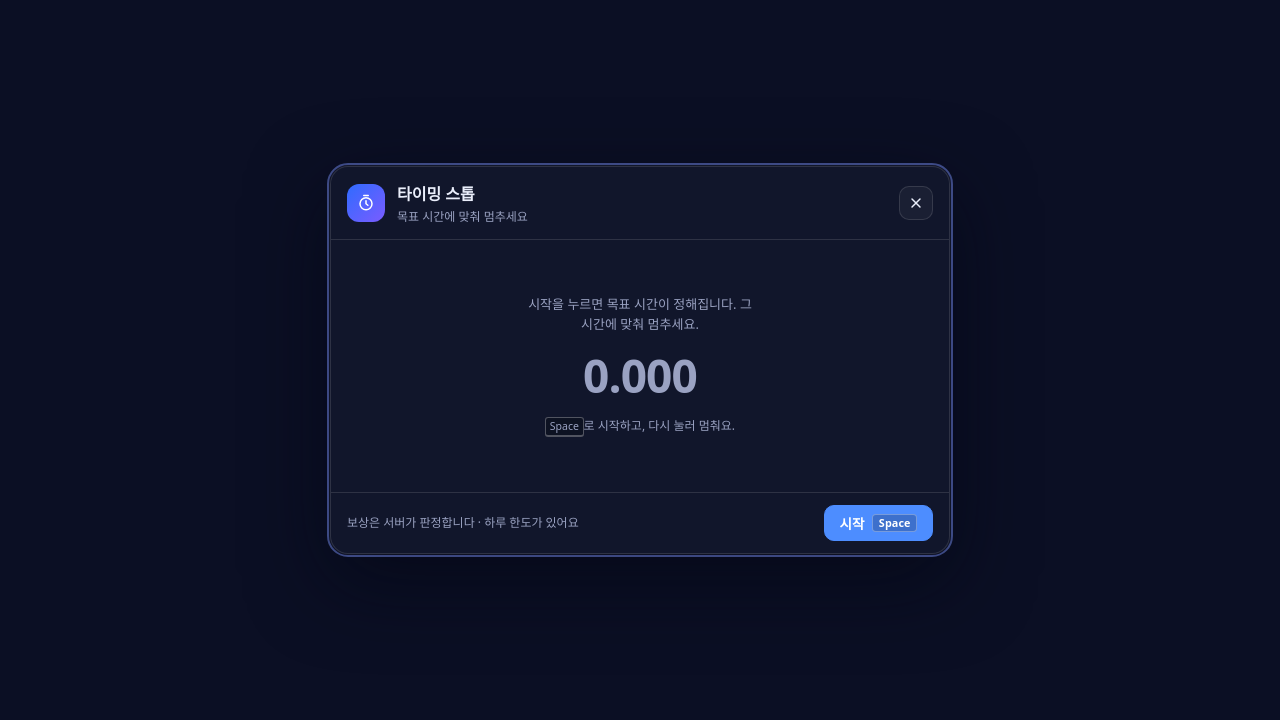
Test: 제출 › 400 은 자동으로 플레이를 재개하지 않는다
The width and height of the screenshot is (1280, 720).
Click the button "시작 Space": click(878, 523) [824, 505, 933, 541]
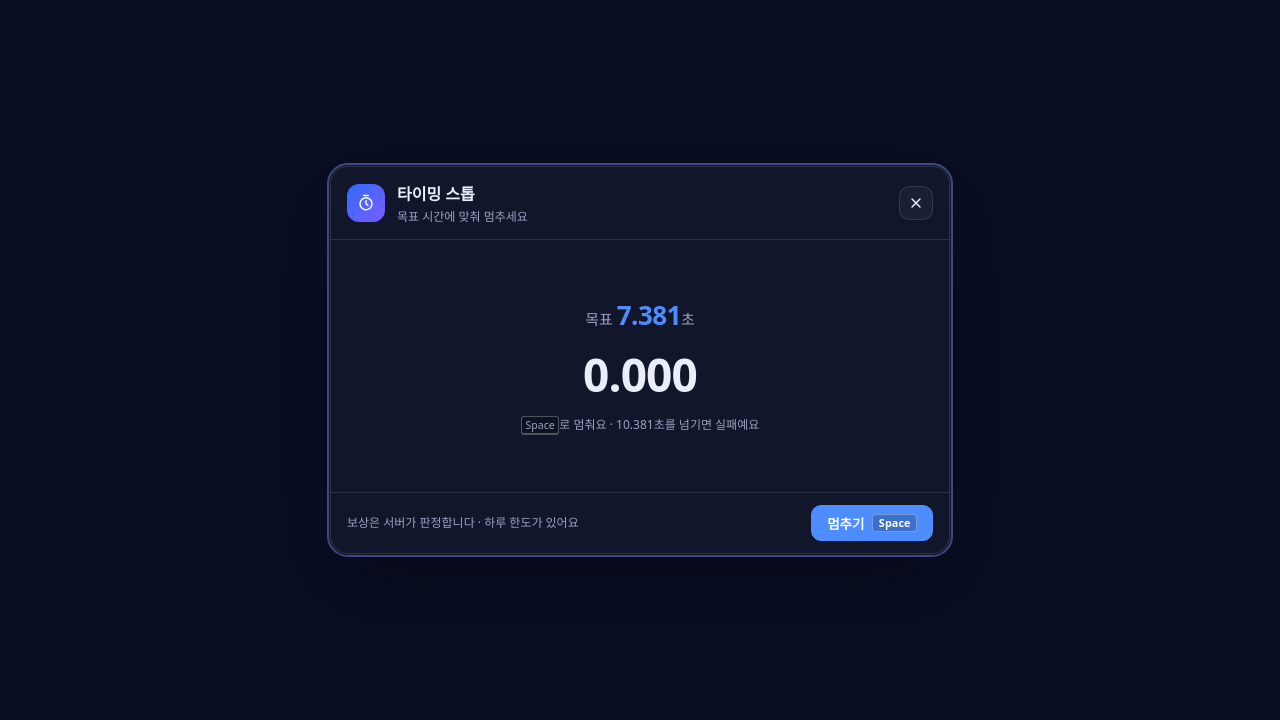
Click the button "멈추기 Space": click(872, 523) [811, 505, 933, 541]
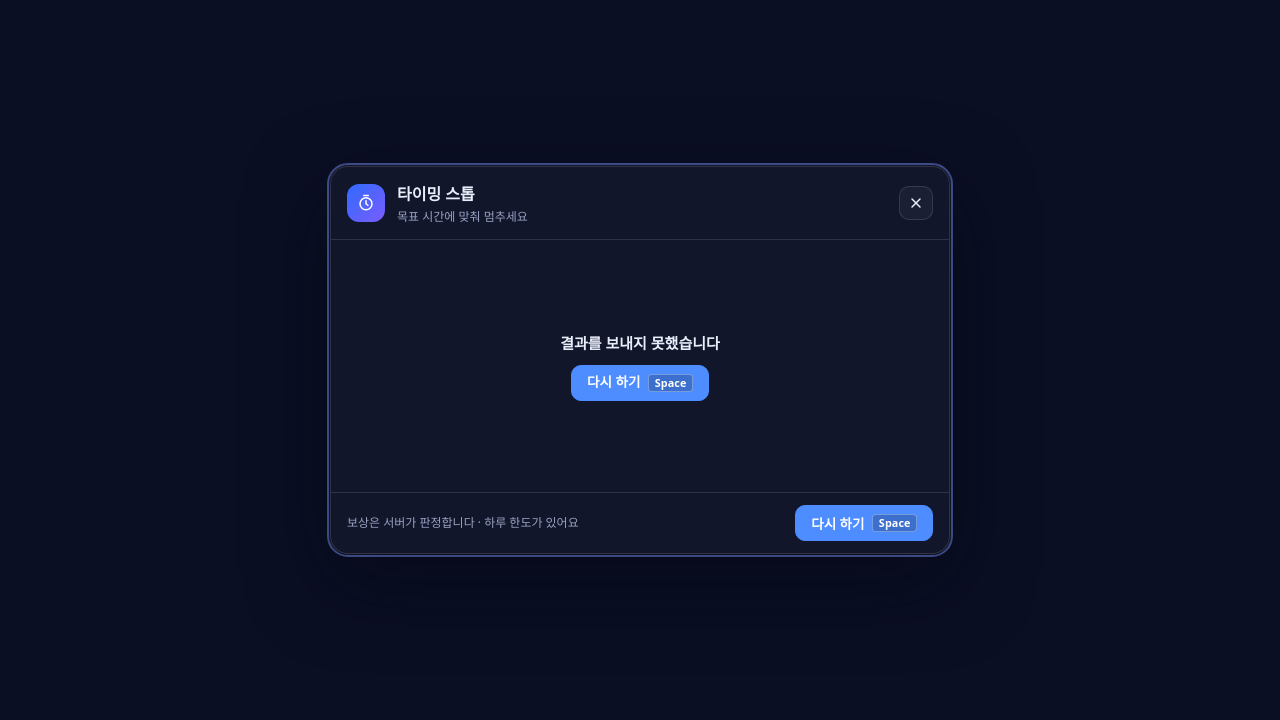
Check: the text "결과를 보내지 못했습니다" is shown, box [560, 331, 720, 355]
Check: the button "멈추기" is gone
